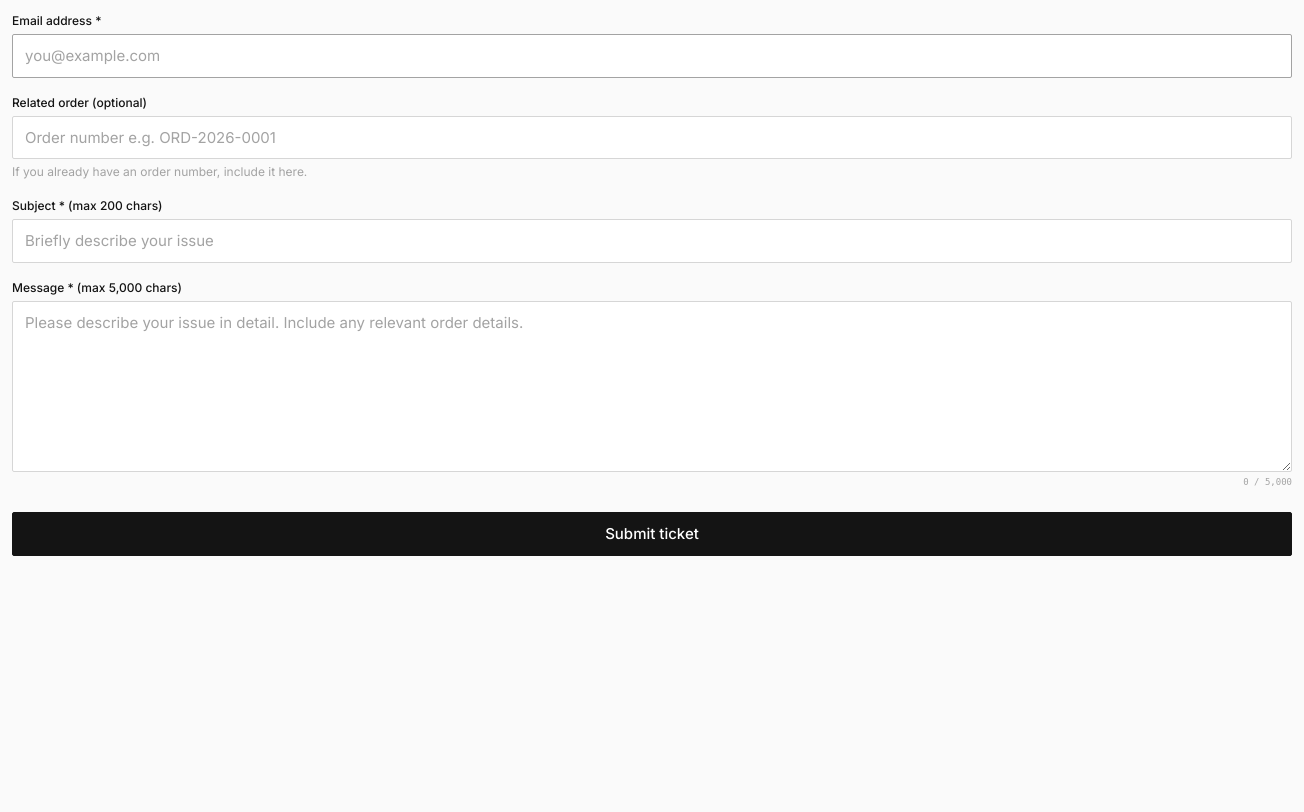
Test case: SupportForm — guest › submits with guest_email and prepends the order number to body
The image size is (1304, 812).
Type "buyer@example.com" into the field with test id "input-email".
click(652, 56); type("buyer@example.com")  # box x1=12 y1=34 x2=1292 y2=78
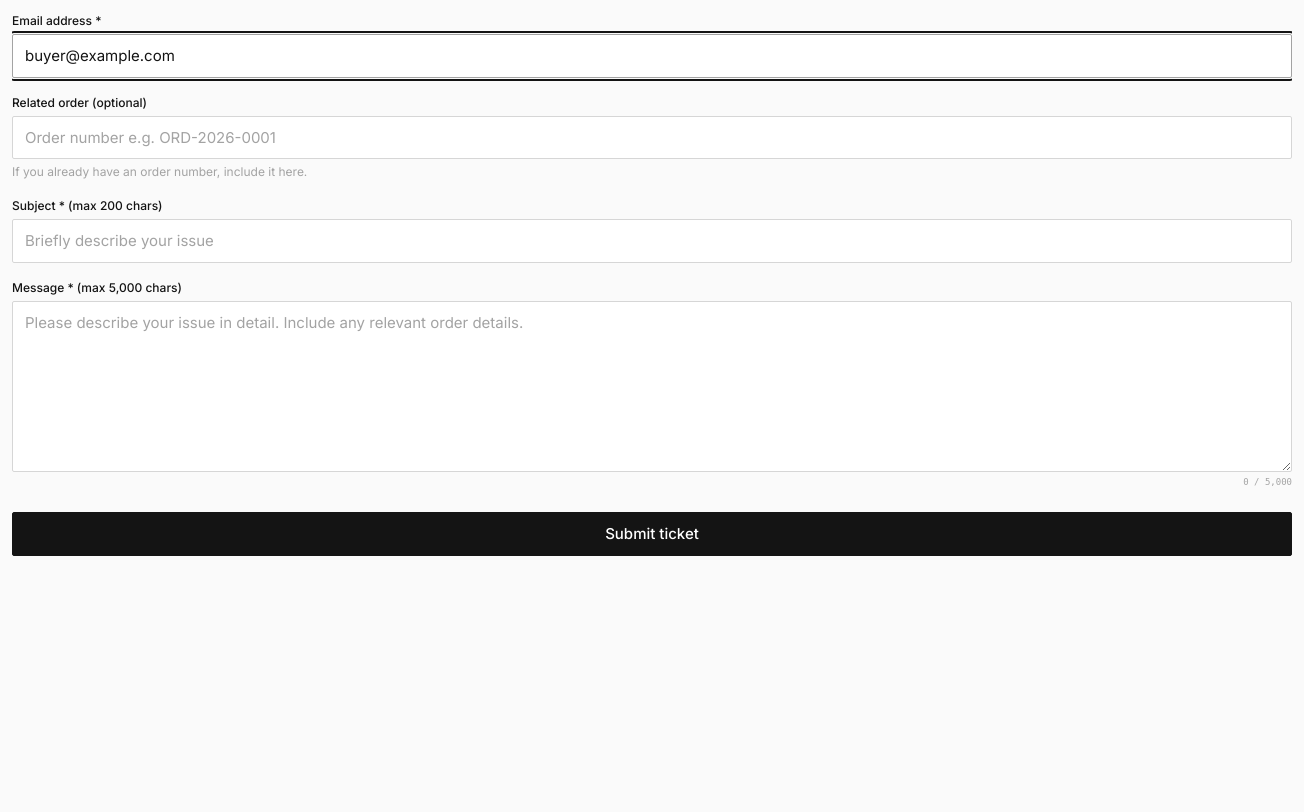
Type "ORD-2026-0001" into the field with test id "input-order-number".
click(652, 137); type("ORD-2026-0001")  # box x1=12 y1=116 x2=1292 y2=159
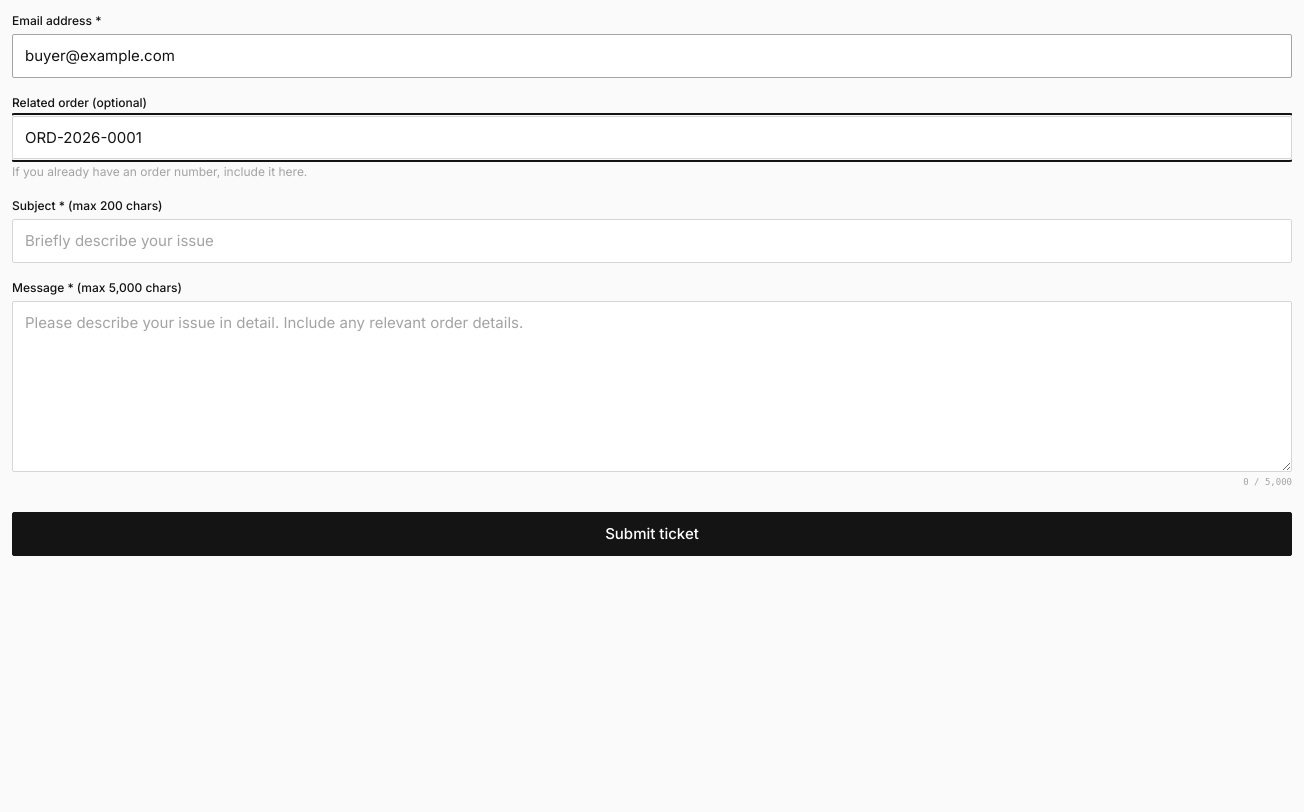
Type "Damaged bottle" into the field with test id "input-subject".
click(652, 241); type("Damaged bottle")  # box x1=12 y1=219 x2=1292 y2=262
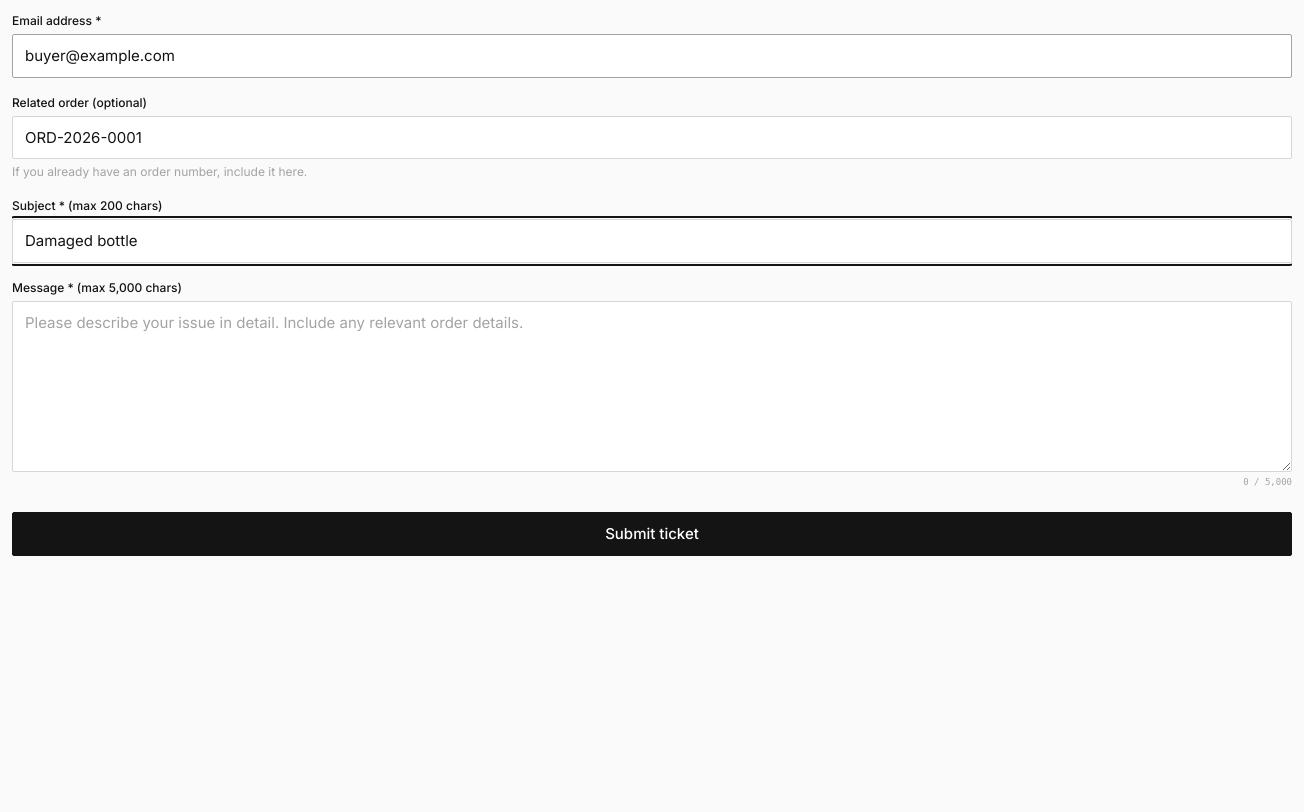
Type "The bottle arrived cracked." into the text box with test id "input-body".
click(652, 386); type("The bottle arrived cracked.")  # box x1=12 y1=300 x2=1292 y2=472
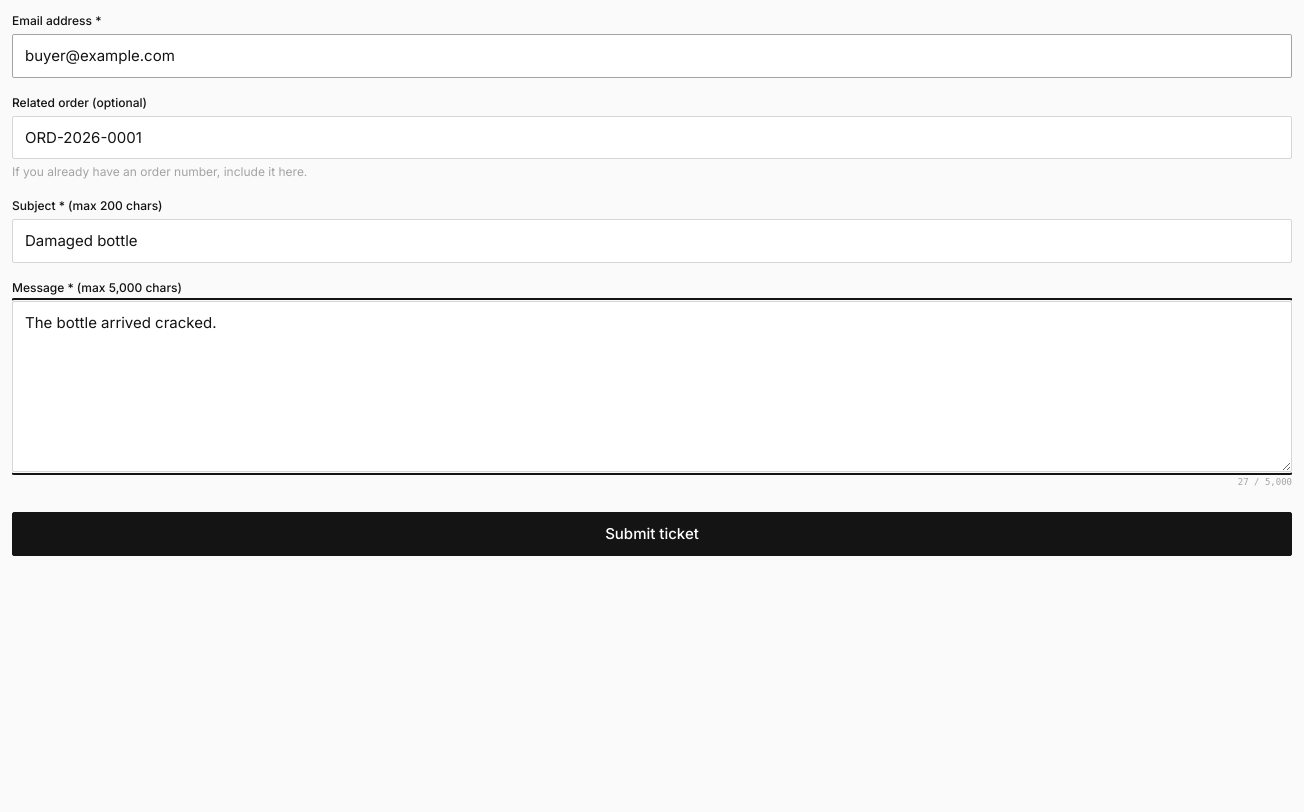
Click the button with test id "support-submit".
click(652, 534)  # box x1=12 y1=512 x2=1292 y2=556
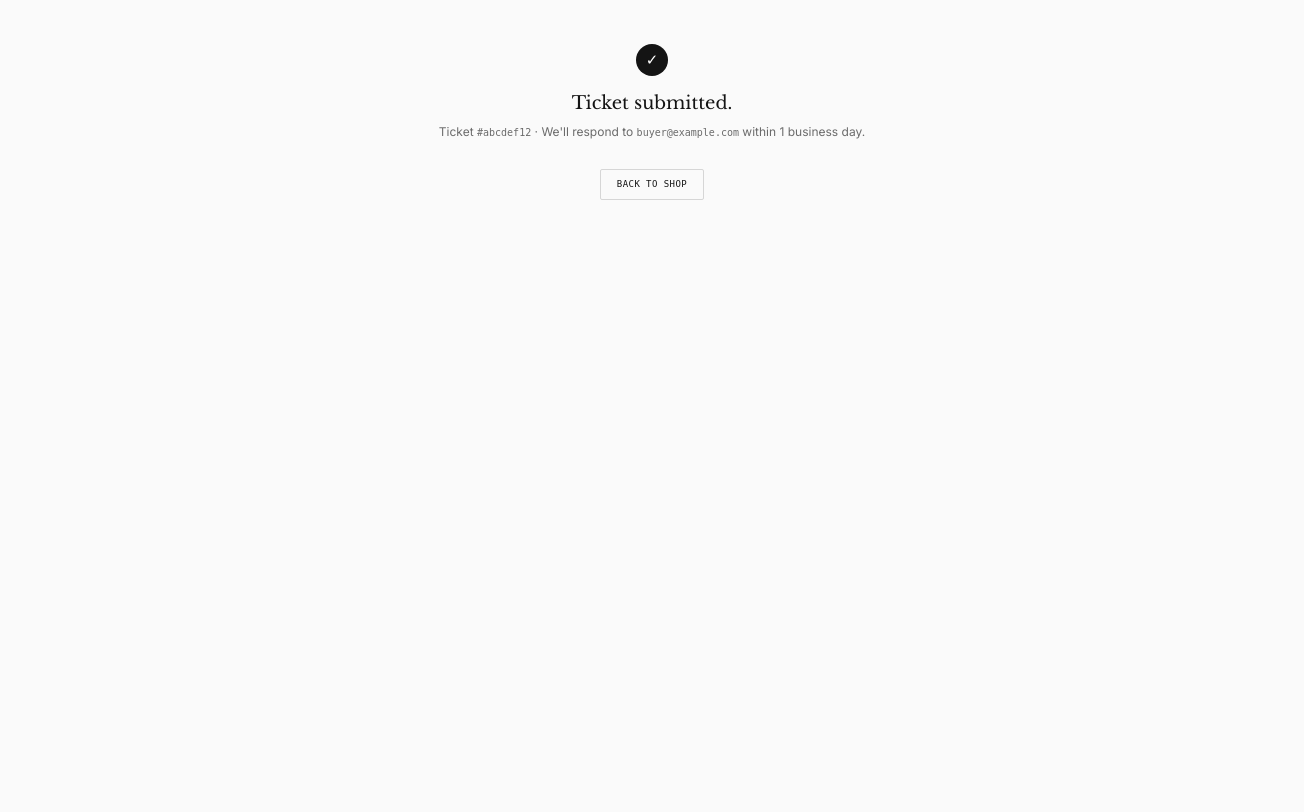
Expected: the text "buyer@example.com" is shown, x1=637 y1=127 x2=739 y2=138
